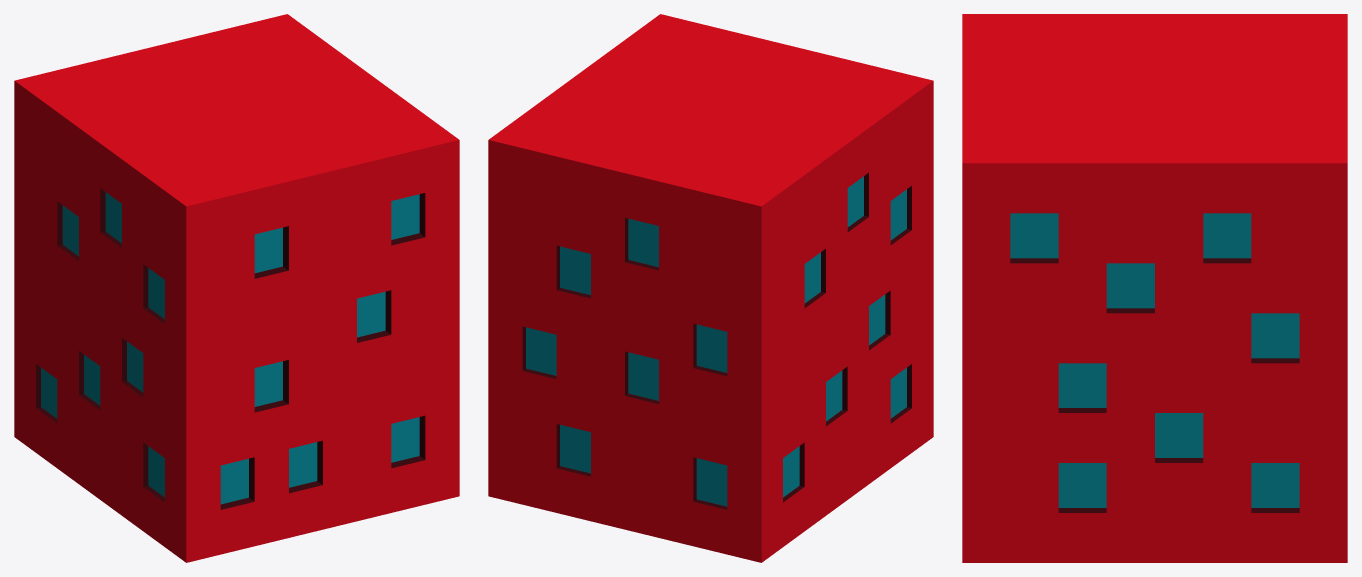
File: building 3 (red).fbx
3 renders of one model, left to right at view 1: azimuth 30°, elevation 25°; view 2: azimuth 150°, elevation 25°; view 3: azimuth 270°, elevation 25°, orthographic. The views are drawn at different scales.
Visible parts, largest first — view 1: Cube; view 2: Cube; view 3: Cube.
Part boxes in pixels (x1=…): Cube: x1=14, y1=14, x2=459, y2=562; Cube: x1=488, y1=14, x2=933, y2=562; Cube: x1=962, y1=14, x2=1347, y2=562.
Bounding box in the file's own units: 1303 × 1625 × 1421.
